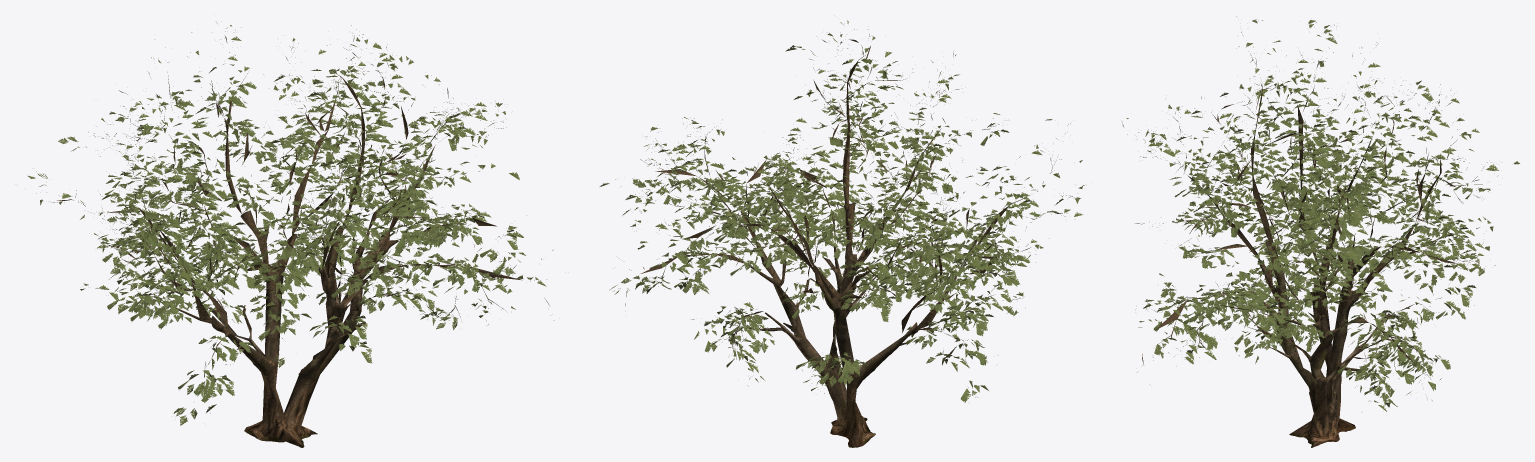
Rendered from mature-broadleaf.glb.
3 views of the same model, side by side, from view 1: azimuth 30°, elevation 25°; view 2: azimuth 150°, elevation 25°; view 3: azimuth 270°, elevation 25° (orthographic). The views are drawn at different scales.
Parts seen in each view (by area): view 1: jacaranda_tree_LOD0; view 2: jacaranda_tree_LOD0; view 3: jacaranda_tree_LOD0.
Boxes of the visible parts, x1,y1,x2,y2 form: jacaranda_tree_LOD0: (27, 22, 554, 447); jacaranda_tree_LOD0: (600, 20, 1084, 447); jacaranda_tree_LOD0: (1122, 16, 1519, 447).
Size of the model in its own units: 23.51 by 19.33 by 18.15.
Materials: 3 (3 with a texture image).
